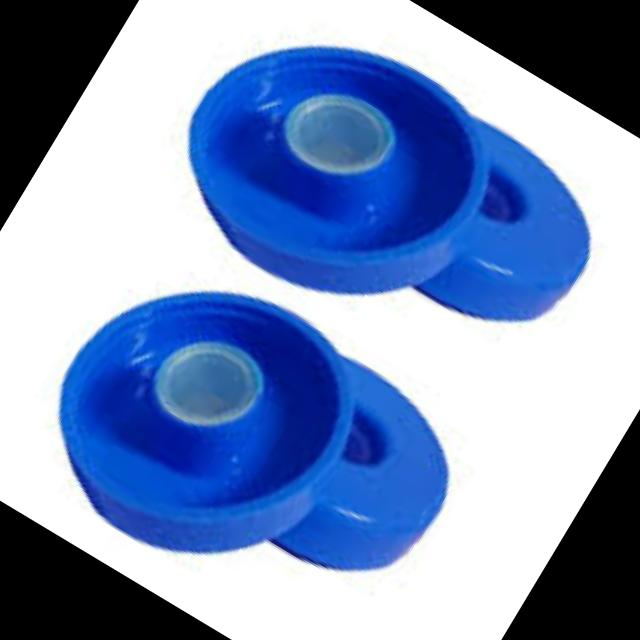TutupGalon: (126, 0, 640, 434), (7, 224, 493, 640)
